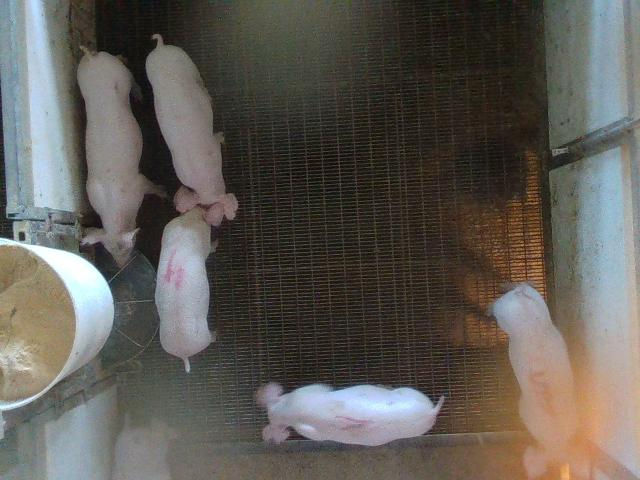pig-1: (256, 382, 444, 446)
pig-3: (490, 285, 636, 479)
pig-4: (155, 185, 238, 372)
